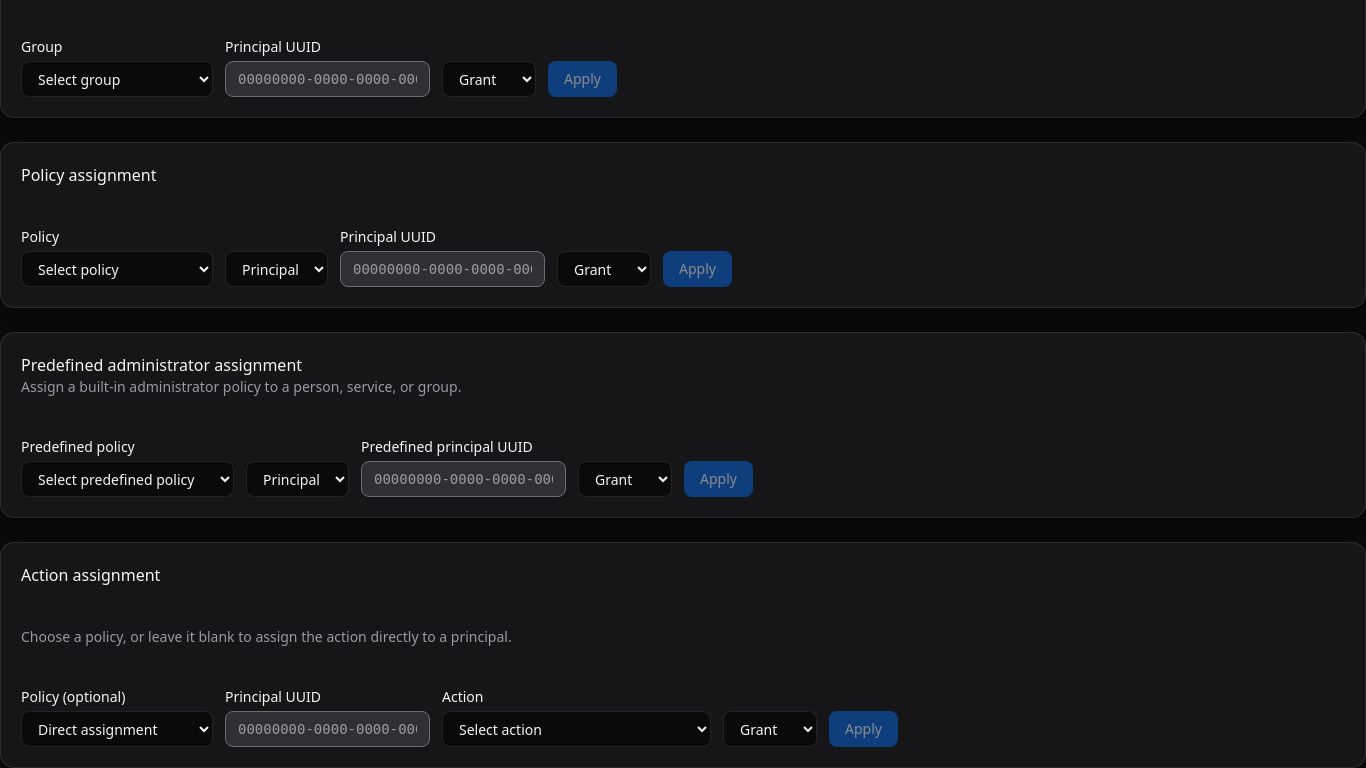
Test: WorkspaceAuthorizationPage › recovers the original Predefined administrator assignment command after its response is lost (predefined-assignments)
(page scrolled)
Select "Workspace Administrator" in the dropdown labelled "Predefined policy": (128, 479) [21,461,234,497]
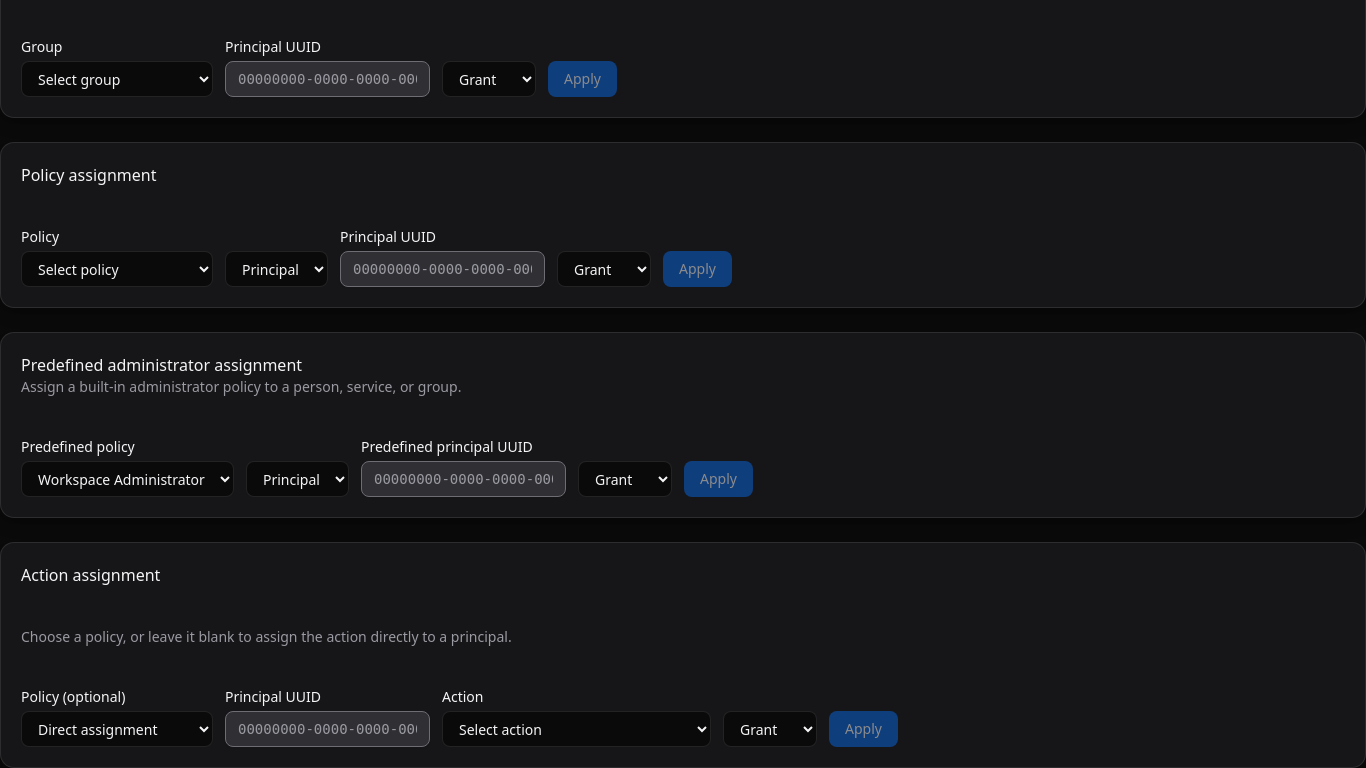
In the field labelled "Predefined principal UUID": (464, 479) [361,461,566,497], type "55555555-5555-5555-5555-555555555555"
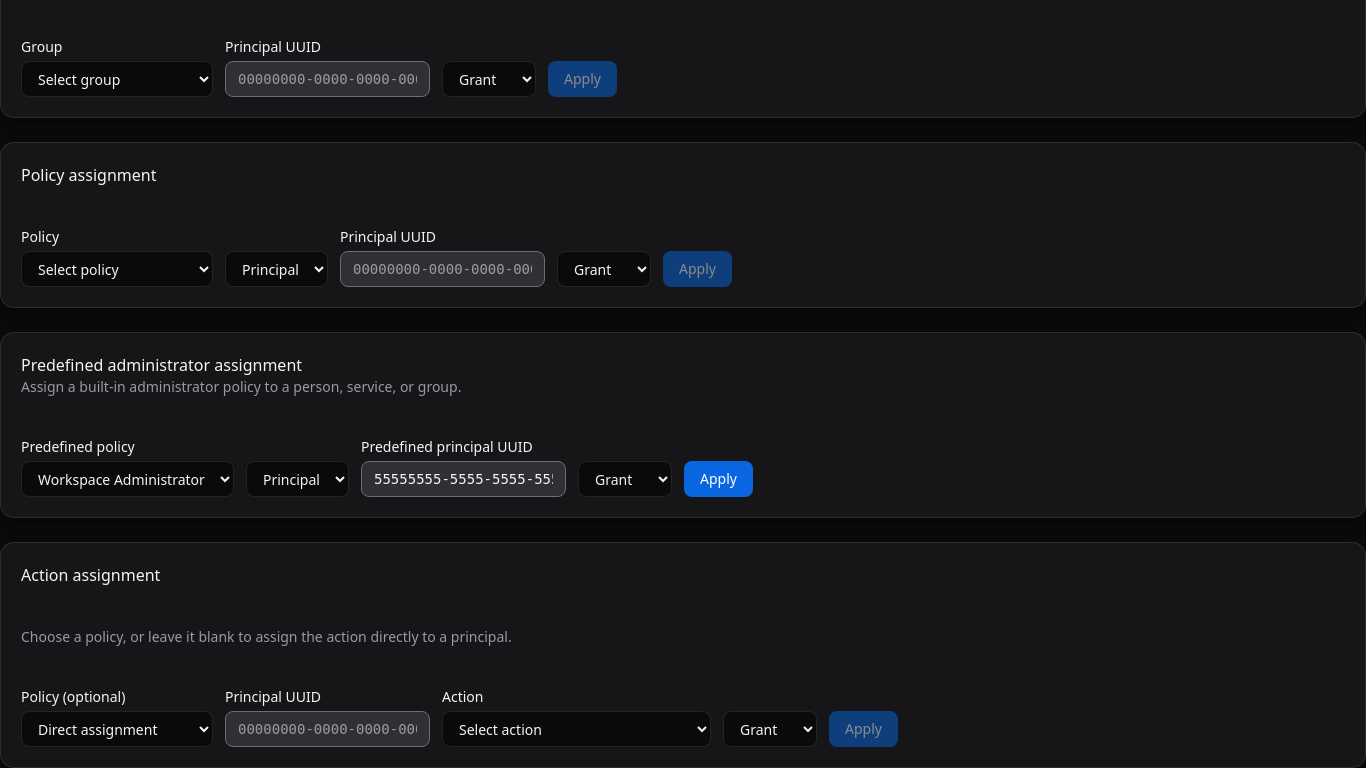
Click the button "Apply" below "Predefined principal UUID": (718, 479) [684,461,753,497]
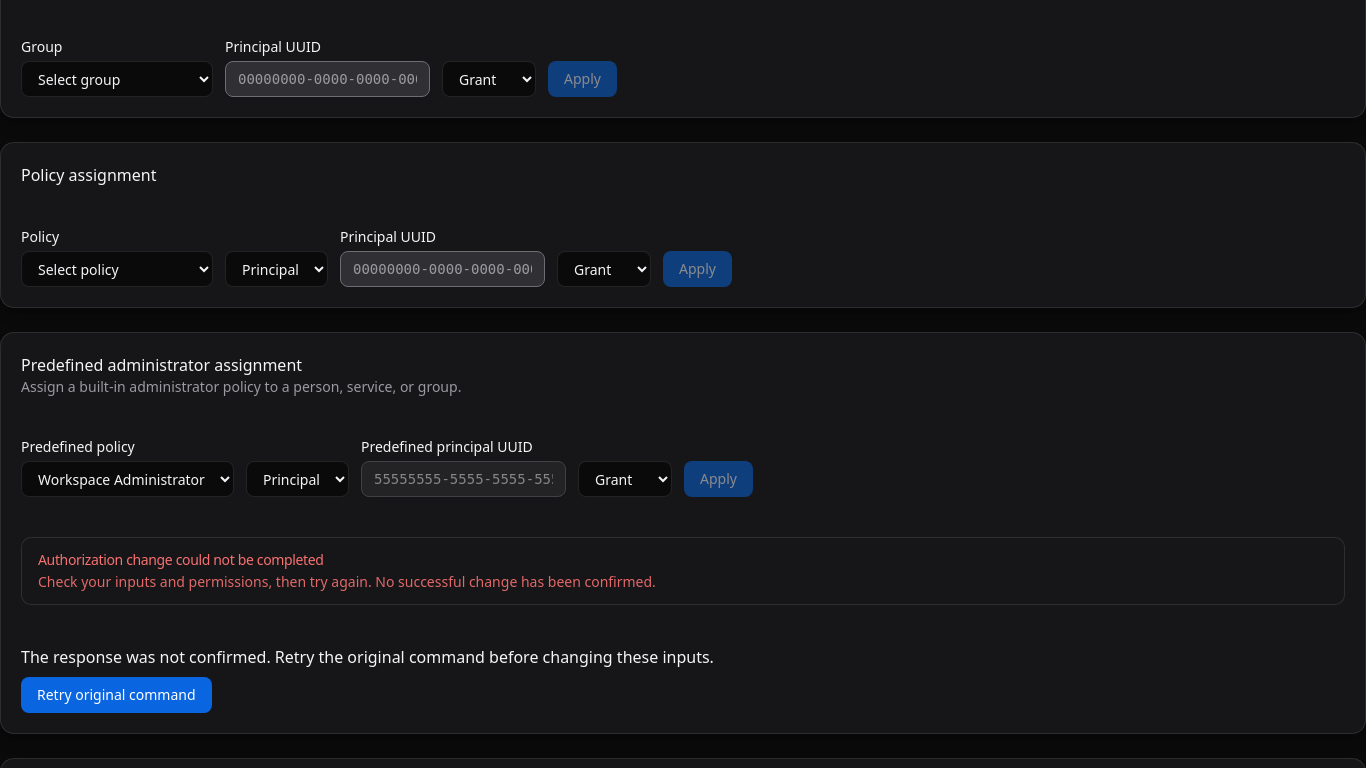
Expected: the field labelled "Predefined principal UUID" is disabled, [361,461,566,497]
Expected: the button "Apply" below "Predefined principal UUID" is disabled, [684,461,753,497]
Click the button "Retry original command": (116, 695) [21,677,212,713]
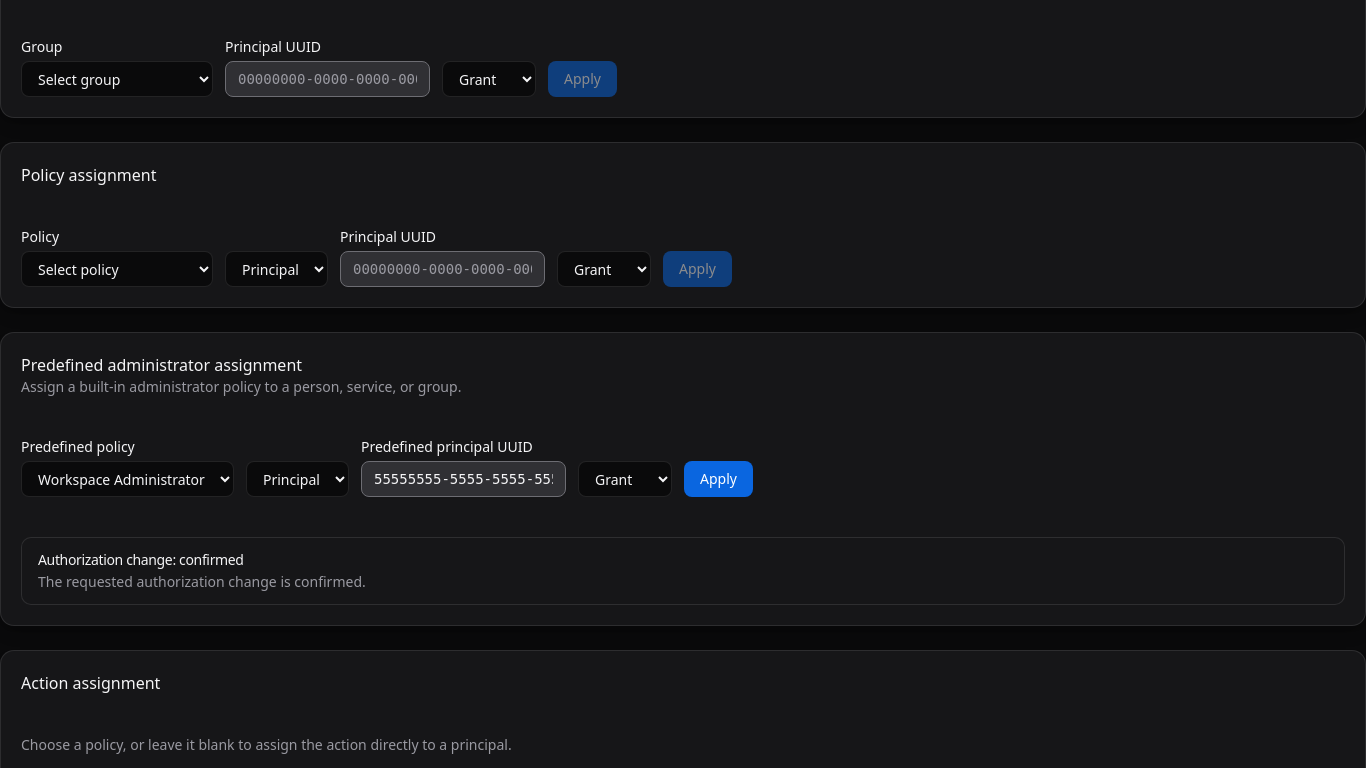
Expected: the button "Apply" below "Predefined principal UUID" is enabled, [684,461,753,497]
Expected: the text "Authorization change: confirmed" is shown, [38,550,244,569]
